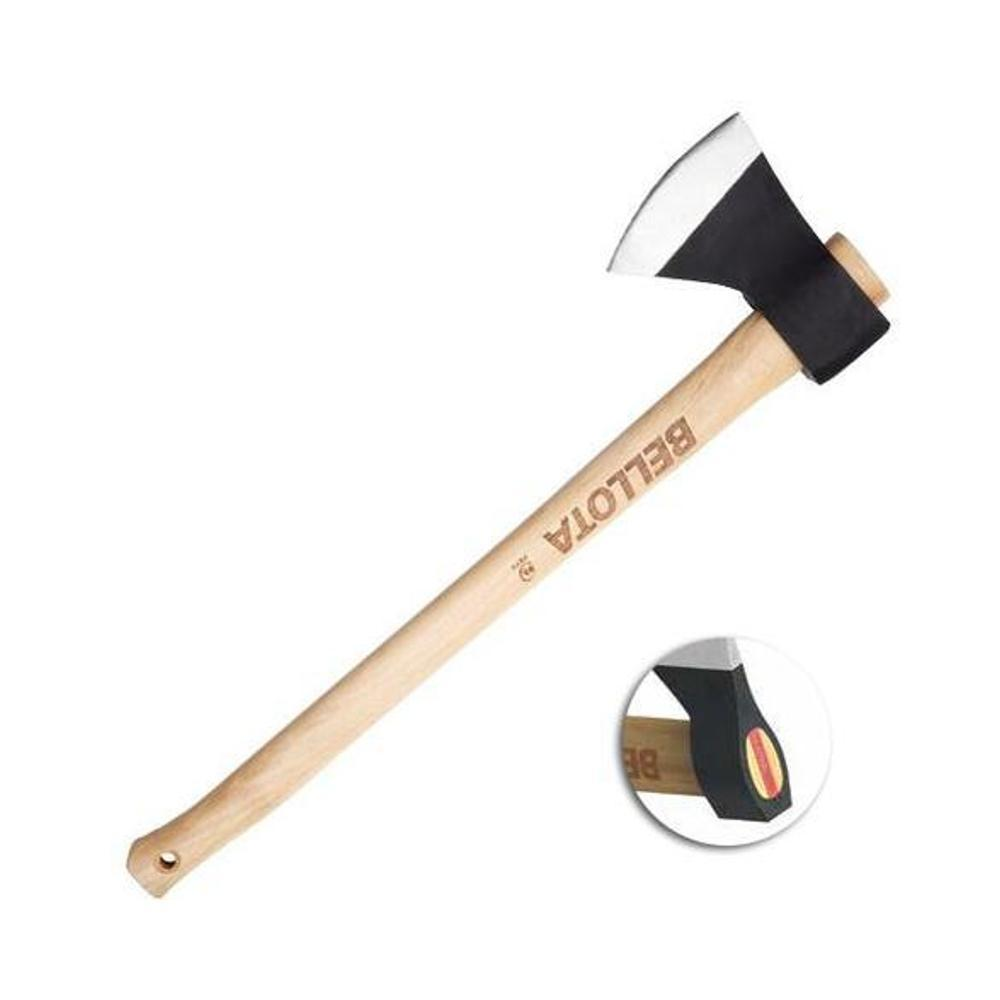machado: (127, 113, 888, 896)
